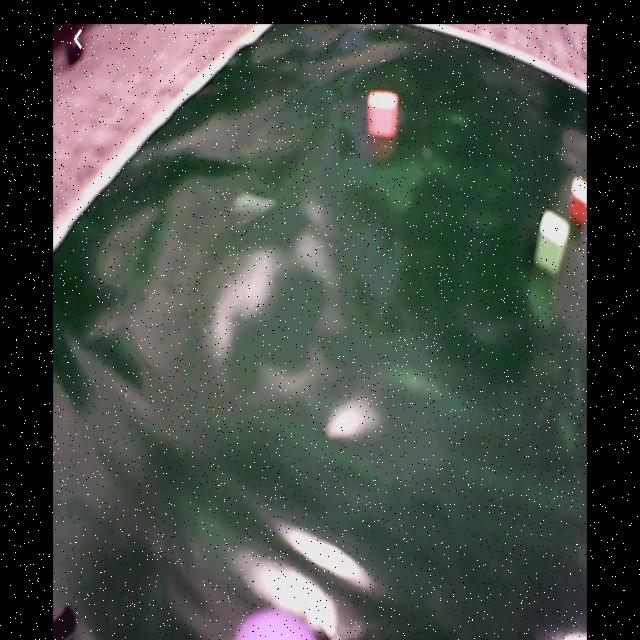ball: (233, 613, 320, 640)
